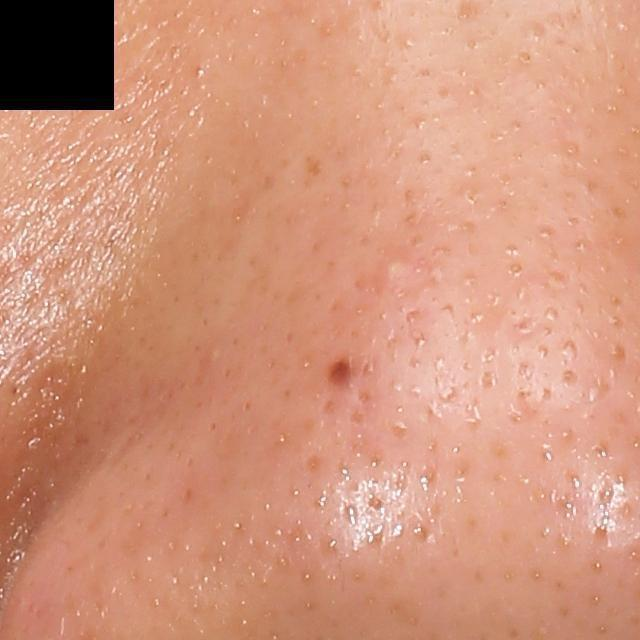comedo: (514, 48, 535, 66)
nevus: (323, 353, 361, 392)
